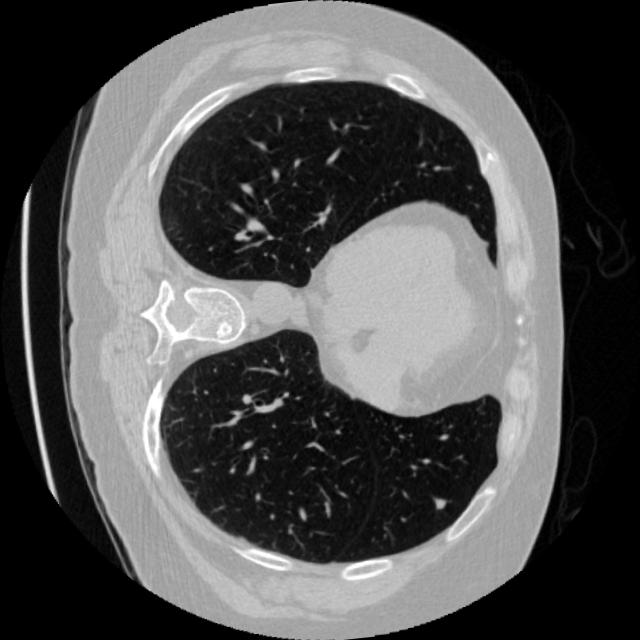nodule: (424, 489, 456, 520)
